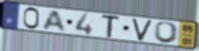0: (22, 6, 41, 30)
4: (74, 12, 96, 37)
A: (41, 10, 67, 33)
O: (153, 21, 181, 44)
T: (101, 14, 122, 39)
V: (131, 18, 154, 42)
